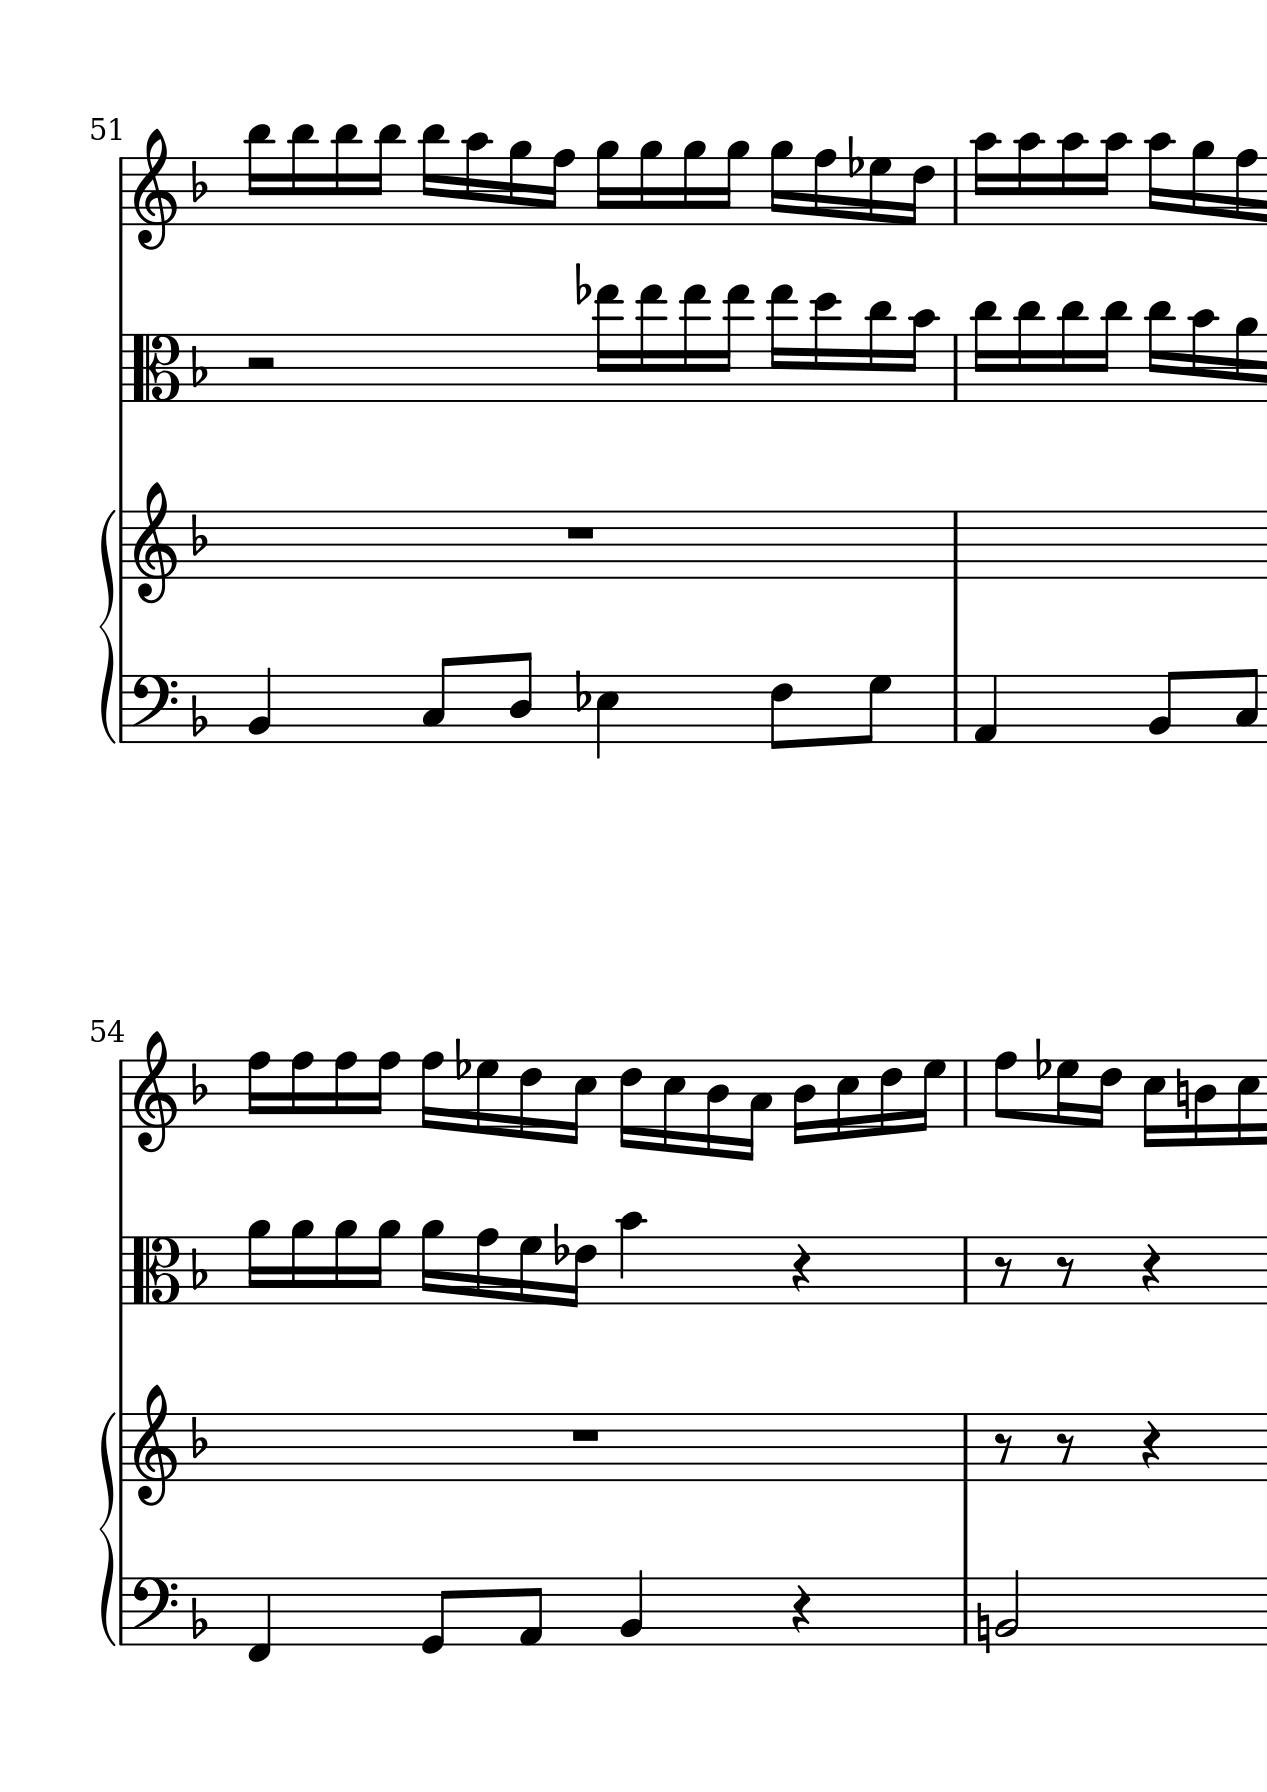1: (107, 115, 123, 144)
16_10: (904, 307, 938, 404), (1096, 132, 1130, 228), (969, 132, 1000, 229), (1187, 306, 1218, 403), (461, 132, 491, 228), (1013, 130, 1042, 228), (1057, 130, 1086, 228), (1145, 132, 1174, 228)
16_11: (369, 122, 405, 226), (1096, 299, 1130, 403), (1012, 299, 1043, 404), (243, 122, 274, 226), (968, 300, 1000, 404), (864, 298, 894, 404), (330, 122, 361, 228), (1056, 299, 1086, 404), (287, 122, 317, 226), (1144, 299, 1174, 403), (418, 122, 447, 228)
16_12: (810, 291, 839, 404)
16_13: (717, 284, 751, 404), (677, 282, 708, 406), (592, 282, 621, 404), (635, 282, 664, 404), (767, 282, 795, 404)
16_3: (740, 1057, 772, 1163)
16_4: (703, 1058, 728, 1160), (1192, 1058, 1216, 1148), (791, 1058, 814, 1146)
16_5: (564, 1058, 596, 1146), (660, 1057, 686, 1154), (1139, 1057, 1166, 1150), (1234, 1058, 1260, 1148), (832, 1057, 858, 1142)
16_6: (617, 1057, 643, 1150), (1089, 1058, 1122, 1131), (565, 1234, 596, 1309), (904, 155, 935, 228), (516, 1057, 542, 1143), (878, 1057, 902, 1137)
16_7: (913, 1057, 945, 1134), (473, 1056, 499, 1138), (865, 155, 891, 228), (1053, 1057, 1079, 1130), (517, 1234, 542, 1308)
16_8: (542, 148, 575, 228), (367, 1050, 399, 1128), (244, 1050, 270, 1128), (330, 1050, 357, 1128), (418, 1050, 443, 1131), (473, 1226, 498, 1307), (810, 148, 835, 228), (1233, 148, 1257, 228), (288, 1050, 313, 1128)
16_9: (719, 140, 750, 228), (369, 1219, 400, 1307), (680, 141, 708, 228), (592, 138, 618, 228), (288, 1218, 314, 1307), (638, 140, 664, 228), (506, 140, 532, 226), (768, 138, 793, 228), (1189, 138, 1214, 228), (418, 1218, 443, 1307), (244, 1218, 269, 1305), (332, 1219, 357, 1307), (1233, 315, 1257, 402)
2_2: (993, 1569, 1019, 1643)
4: (106, 1017, 126, 1046)
4_-1: (245, 1575, 273, 1664)
4_1: (971, 675, 998, 744)
4_10: (616, 1211, 644, 1308)
4_2: (247, 664, 273, 744), (618, 1569, 644, 1647)
4_5: (594, 673, 618, 761)
5: (88, 114, 106, 144), (89, 1017, 106, 1045)
8_0: (420, 1577, 452, 1656)
8_1: (516, 1575, 544, 1649)
8_2: (1146, 669, 1182, 744)
8_3: (420, 655, 455, 744), (1233, 666, 1259, 744)
8_4: (507, 650, 533, 744)
8_6: (768, 673, 793, 751)
8_7: (857, 673, 891, 744)
8_8: (991, 1050, 1016, 1130)
Brace: (96, 510, 117, 747), (97, 1415, 117, 1649)
Cclef: (130, 332, 180, 403), (130, 1234, 180, 1304)
Fclef: (129, 673, 178, 743), (128, 1575, 176, 1647)
Flat: (188, 159, 208, 206), (570, 261, 591, 307), (188, 1061, 208, 1106), (188, 692, 207, 739), (188, 1415, 207, 1462), (188, 511, 207, 557), (189, 1248, 208, 1292), (845, 133, 862, 180), (572, 668, 590, 714), (452, 1037, 470, 1083), (1033, 1037, 1050, 1083), (189, 1595, 207, 1641), (191, 346, 210, 388), (550, 1222, 568, 1267)
Gclef: (132, 128, 178, 252), (132, 480, 177, 605), (132, 1030, 177, 1153), (132, 1383, 176, 1507)
Natural: (1172, 1065, 1189, 1119), (975, 1600, 991, 1654)
Rests1: (561, 522, 598, 543), (566, 1425, 602, 1445)
Rests2: (241, 352, 278, 372)
Rests4: (788, 1242, 812, 1294), (788, 1584, 812, 1636), (1139, 1242, 1161, 1296), (1139, 1419, 1161, 1471)
Rests8: (991, 1431, 1013, 1466), (991, 1255, 1013, 1287), (1054, 1430, 1074, 1464), (1054, 1255, 1074, 1287)
Single_barline: (943, 511, 965, 579), (111, 335, 132, 400), (945, 335, 965, 400), (111, 1060, 130, 1128), (946, 675, 965, 742), (946, 159, 965, 223), (112, 158, 130, 226), (112, 1237, 130, 1304), (956, 1578, 974, 1645), (956, 1238, 974, 1304), (956, 1415, 974, 1479), (114, 1414, 130, 1482), (957, 1061, 974, 1128), (114, 511, 129, 579), (115, 675, 129, 742), (115, 1578, 129, 1645)
